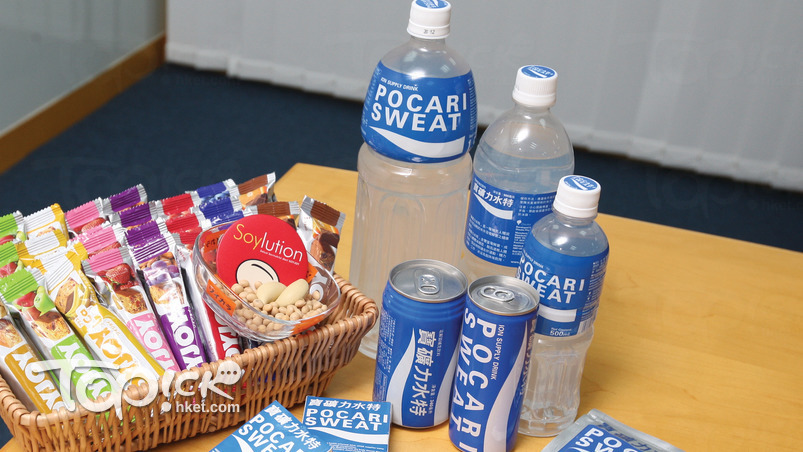POCARI SWEAT: (349, 1, 474, 261), (526, 173, 615, 423)
